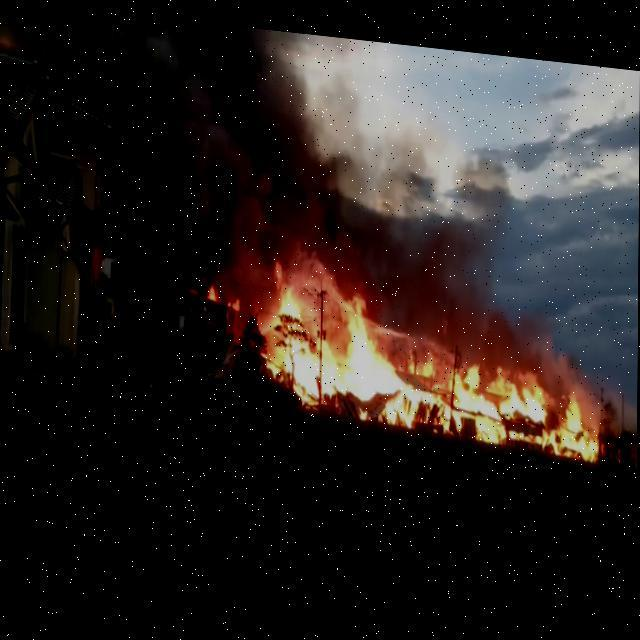Fire: (264, 255, 600, 448), (206, 278, 222, 302), (228, 290, 240, 306)
